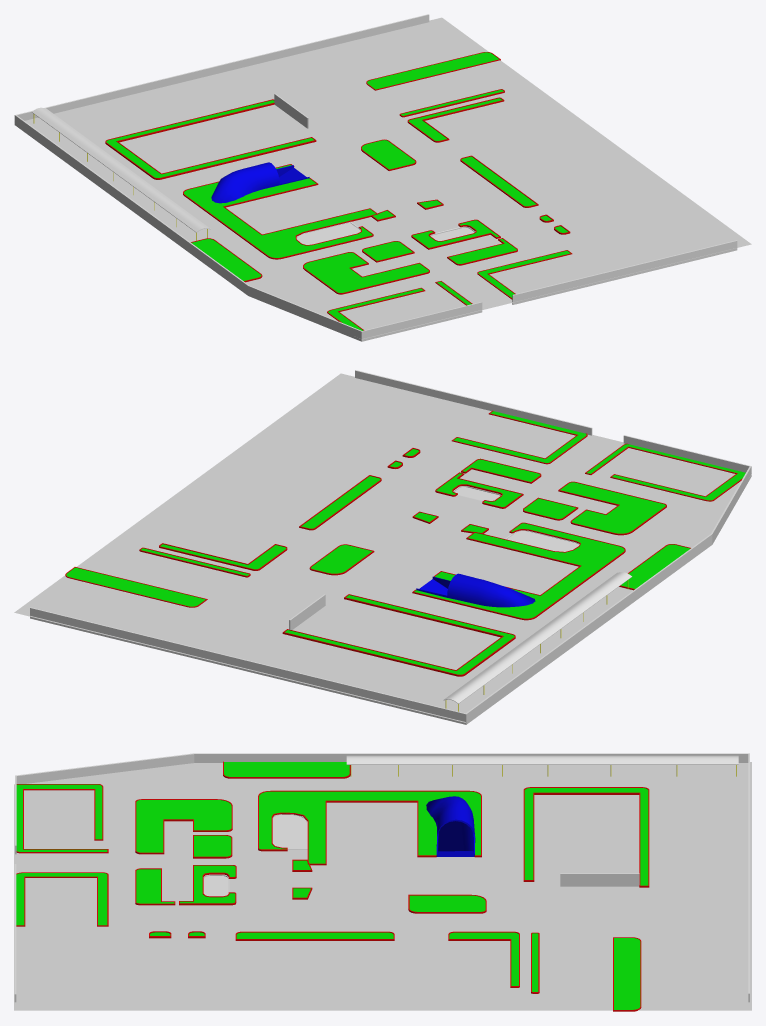
File: JianZhuDX.fbx
3 views of the same model, one above another, from view 1: azimuth 30°, elevation 25°; view 2: azimuth 150°, elevation 25°; view 3: azimuth 270°, elevation 25° (orthographic). The views are drawn at different scales.
Parts seen in each view (by area): view 1: JianZhuDX, polySurface1928, polySurface1927; view 2: JianZhuDX, polySurface1928, polySurface1927; view 3: JianZhuDX, polySurface1928, polySurface1927.
Part boxes in pixels (x1,y1,x2,y2): JianZhuDX: (14,14,751,341); polySurface1928: (106,52,570,330); polySurface1927: (105,52,572,330); JianZhuDX: (14,370,751,724); polySurface1928: (66,411,745,674); polySurface1927: (65,410,742,676); JianZhuDX: (14,753,751,1010); polySurface1928: (16,762,648,1009); polySurface1927: (16,761,649,1011).
Size of the model in its own units: 572 by 85.2 by 716.
